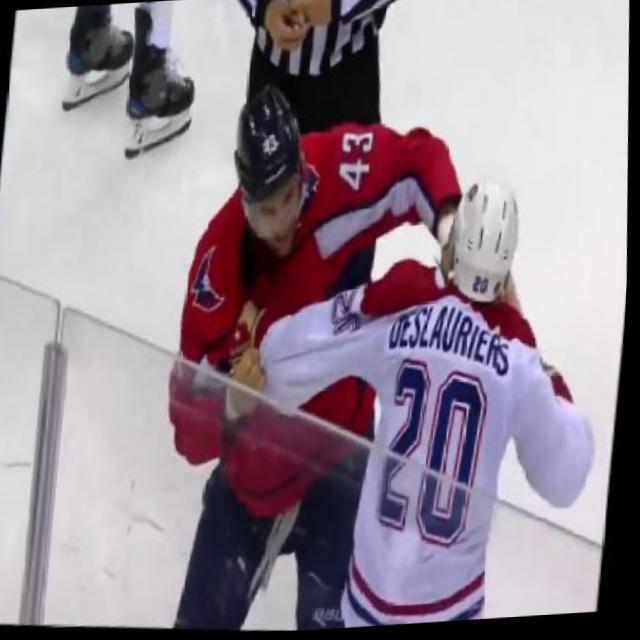fight: (137, 60, 637, 623)
